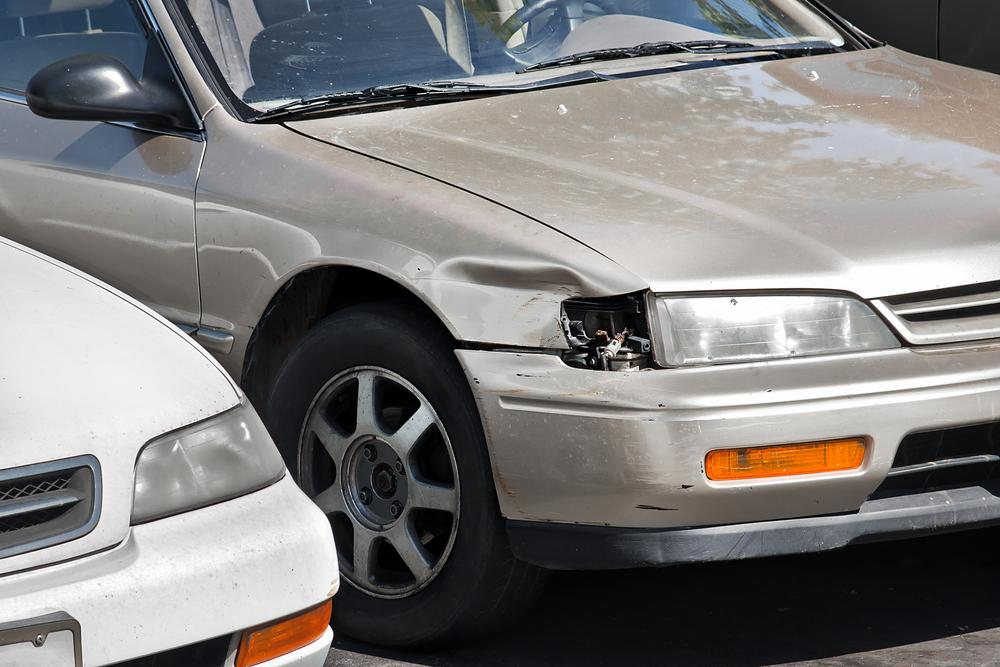dent: (437, 256, 583, 349)
scratch: (624, 454, 701, 517)
